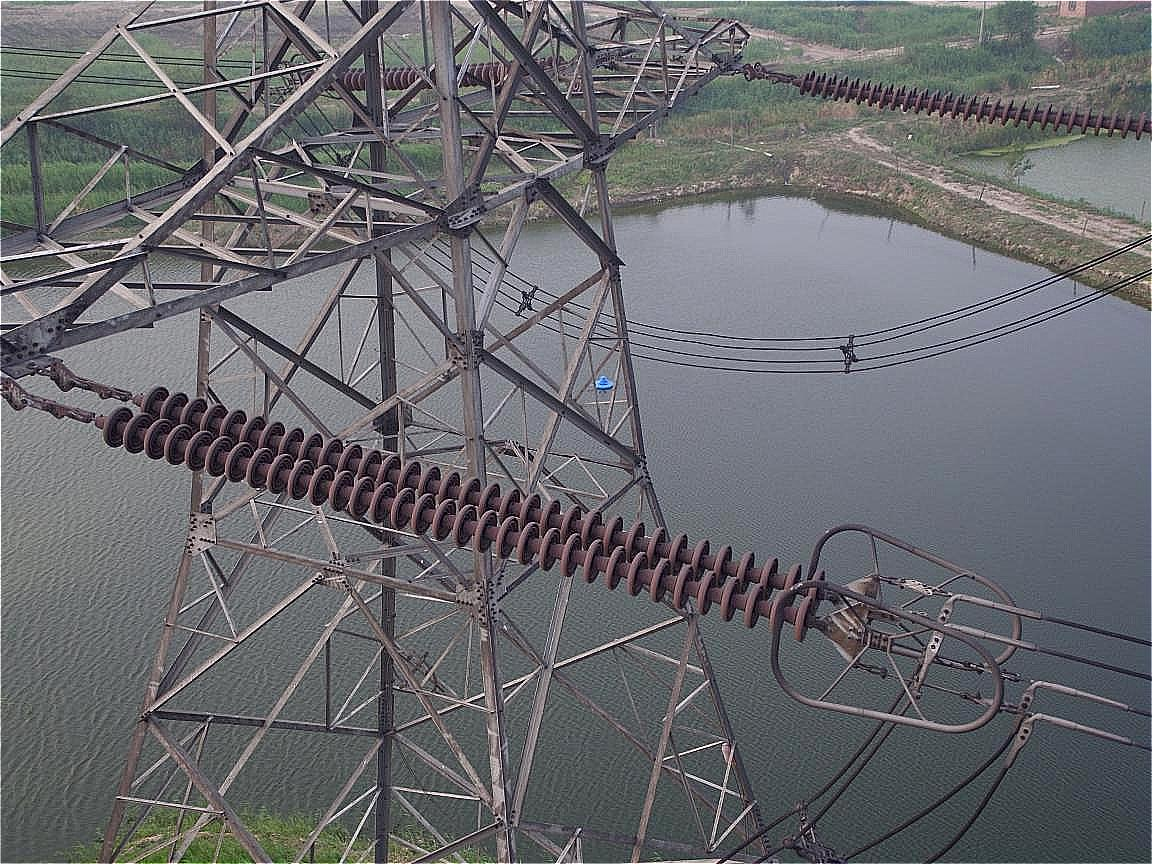insultor1: (70, 367, 848, 651), (790, 54, 1152, 154)
